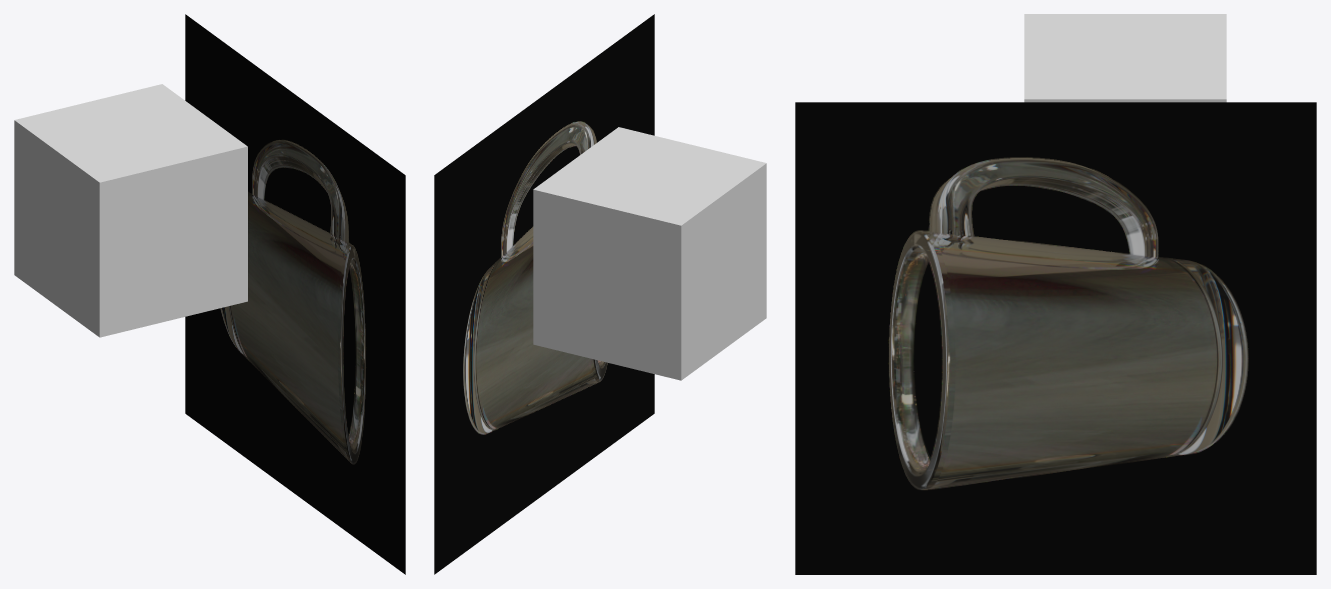
Rendered from mug-planes.glb.
3 views of the same model, side by side, from view 1: azimuth 30°, elevation 25°; view 2: azimuth 150°, elevation 25°; view 3: azimuth 270°, elevation 25° (orthographic). The views are drawn at different scales.
Parts seen in each view (by area): view 1: Plane, Cube; view 2: Plane, Cube; view 3: Plane, Cube.
Part boxes in pixels (x1,y1,x2,y2): Plane: (185,14,405,574); Cube: (14,84,247,337); Plane: (434,14,654,574); Cube: (533,127,766,380); Plane: (795,102,1316,574); Cube: (1024,14,1226,102).
Size of the model in its own units: 2.82 by 5.16 by 5.16.
1 material, 1 textured.
